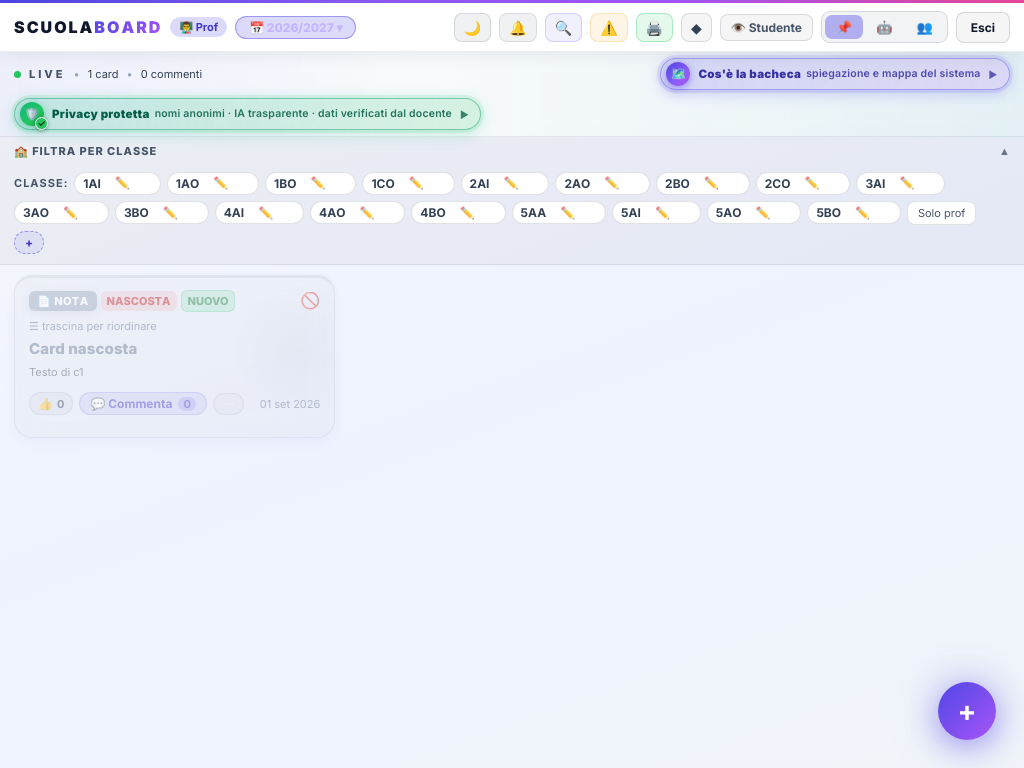
Scenario: CardDetail — stato APERTO › card nascosta: badge NASCOSTA e allegati visibili al prof
Click the text "Card nascosta".
click(83, 348)  # box [29,338,137,358]
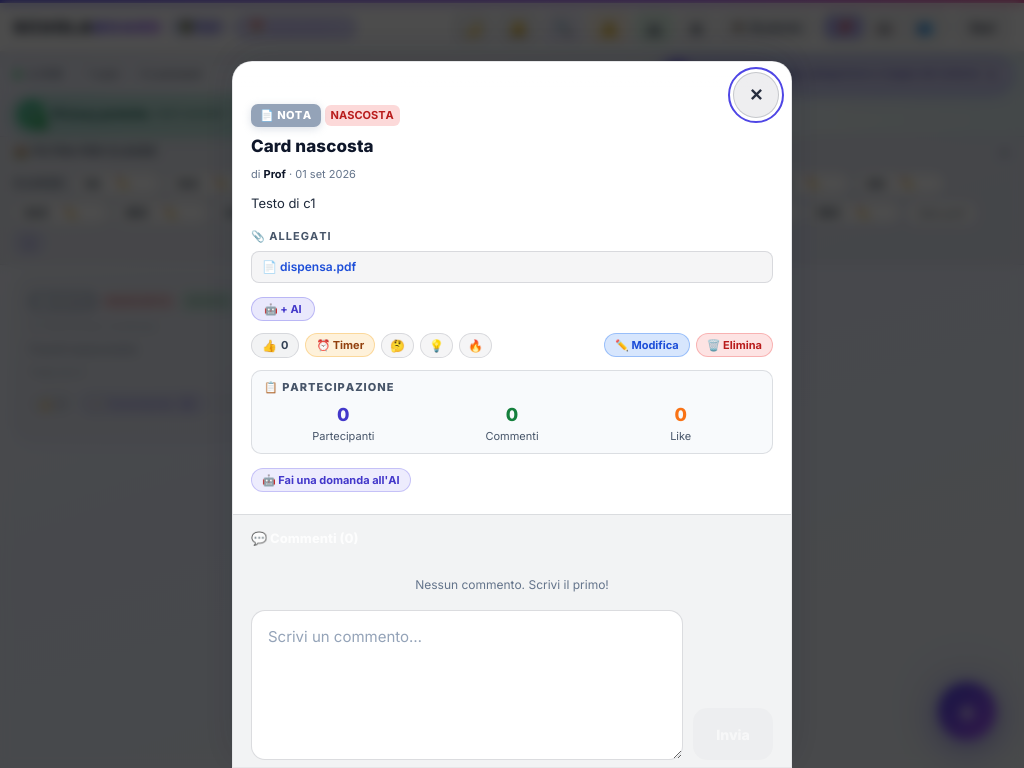
Check: the text "NASCOSTA" is shown, box [325,106,400,126]
Check: the link "📄 dispensa.pdf" is shown, box [251,251,773,283]
